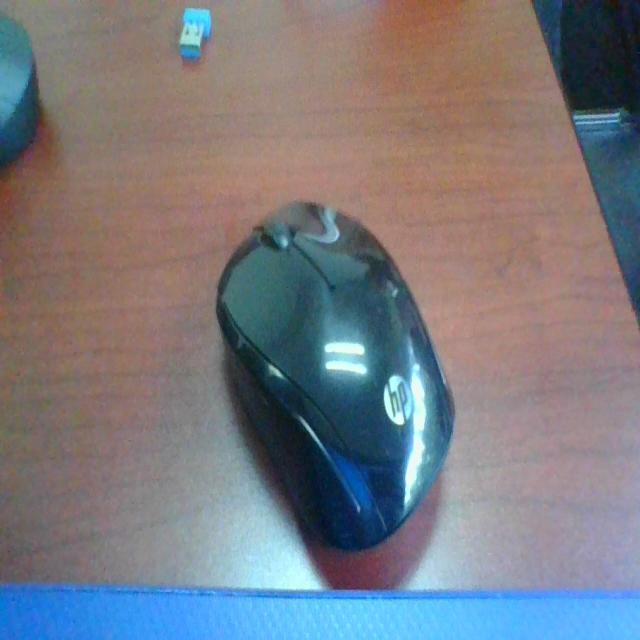mouse: (204, 183, 494, 564)
